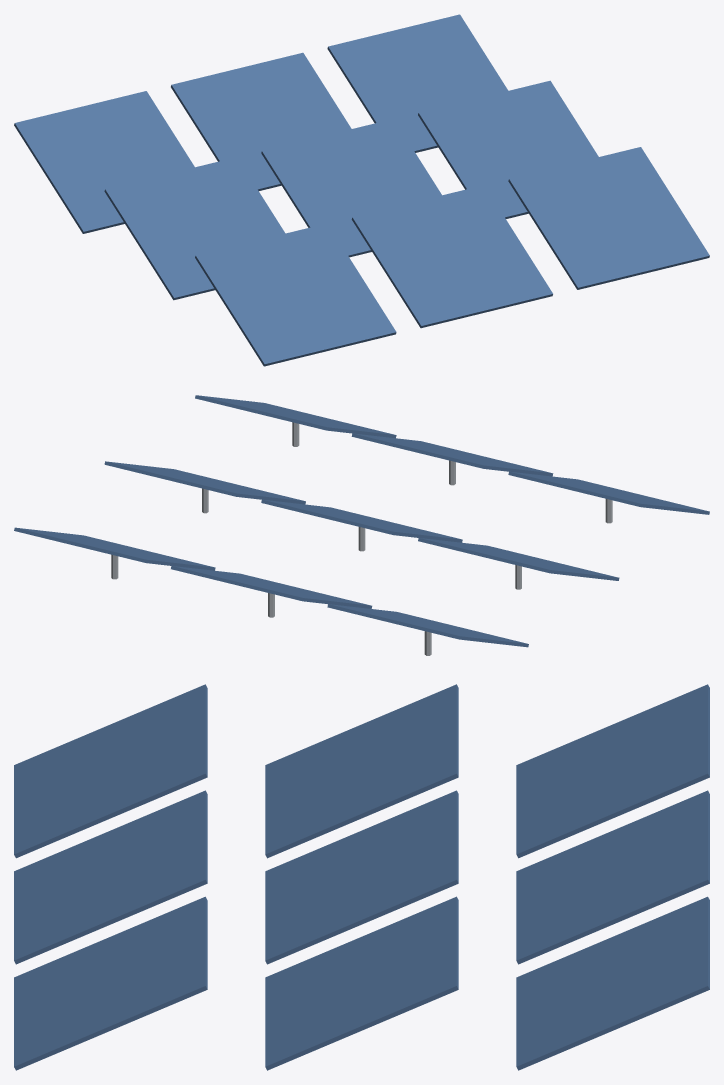
File: solar_plant.glb
3 renders of one model, top to bottom at view 1: azimuth 30°, elevation 25°; view 2: azimuth 150°, elevation 25°; view 3: azimuth 270°, elevation 25°, orthographic. The views are drawn at different scales.
Parts seen in each view (by area): view 1: Cube, Cube.006, Cube.003, Cube.001, Cube.002, Cube.007, Cube.004, Cube.005, Cube.008; view 2: Cube, Cube.002, Cube.004, Cube.001, Cube.008, Cube.006, Cube.007, Cube.003, Cube.005; view 3: Cube, Cube.008, Cube.001, Cube.003, Cube.007, Cube.004, Cube.005, Cube.002, Cube.006.
Boxes of the visible parts, x1=… form: Cube: x1=195, y1=223, x2=396, y2=366; Cube.006: x1=508, y1=147, x2=709, y2=289; Cube.003: x1=351, y1=185, x2=552, y2=328; Cube.001: x1=104, y1=157, x2=285, y2=300; Cube.002: x1=14, y1=91, x2=194, y2=233; Cube.007: x1=418, y1=80, x2=598, y2=218; Cube.004: x1=261, y1=119, x2=441, y2=257; Cube.005: x1=171, y1=52, x2=351, y2=190; Cube.008: x1=327, y1=14, x2=508, y2=152; Cube: x1=508, y1=471, x2=709, y2=514; Cube.002: x1=327, y1=604, x2=528, y2=647; Cube.004: x1=261, y1=499, x2=462, y2=542; Cube.001: x1=418, y1=538, x2=619, y2=580; Cube.008: x1=14, y1=527, x2=215, y2=570; Cube.006: x1=195, y1=395, x2=396, y2=438; Cube.007: x1=104, y1=461, x2=305, y2=504; Cube.003: x1=351, y1=433, x2=553, y2=476; Cube.005: x1=171, y1=566, x2=372, y2=608; Cube: x1=14, y1=684, x2=207, y2=858; Cube.008: x1=516, y1=896, x2=709, y2=1070; Cube.001: x1=265, y1=684, x2=458, y2=858; Cube.003: x1=14, y1=790, x2=207, y2=964; Cube.007: x1=265, y1=896, x2=458, y2=1070; Cube.004: x1=265, y1=790, x2=458, y2=964; Cube.005: x1=516, y1=790, x2=709, y2=964; Cube.002: x1=516, y1=684, x2=709, y2=858; Cube.006: x1=14, y1=896, x2=207, y2=1070.
Bounding box in the file's own units: 37.51 × 4.92 × 36.58.
